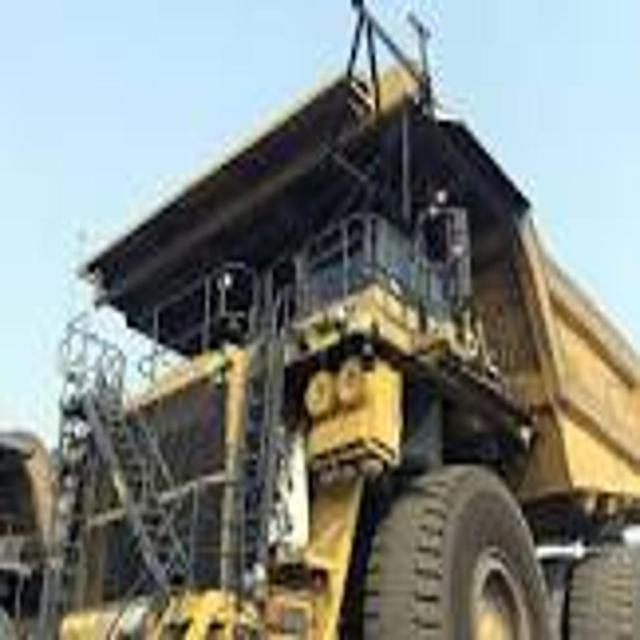dump_truck: (62, 33, 640, 640)
